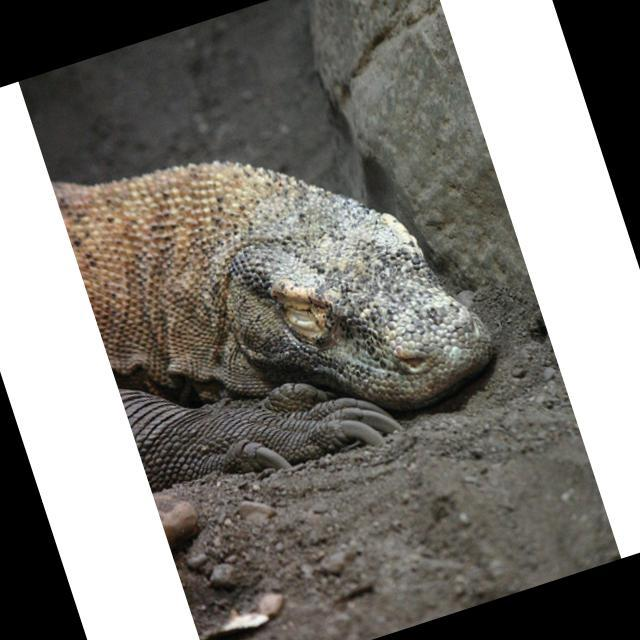KomodoDragon: (55, 67, 513, 513)
